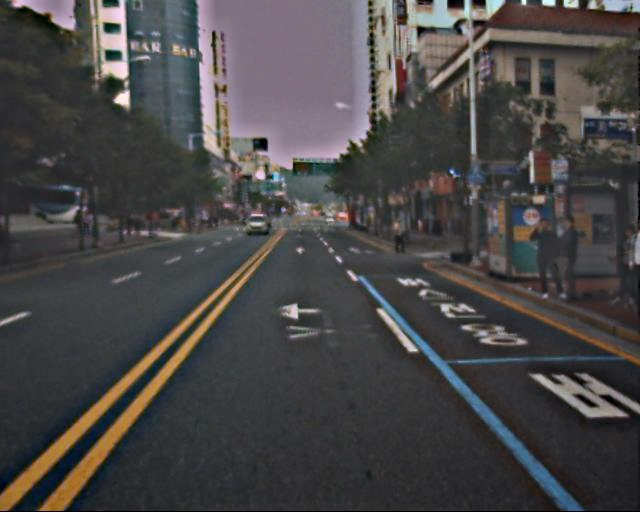person: (548, 214, 588, 304), (602, 225, 640, 308), (527, 219, 563, 303), (390, 216, 407, 258)
